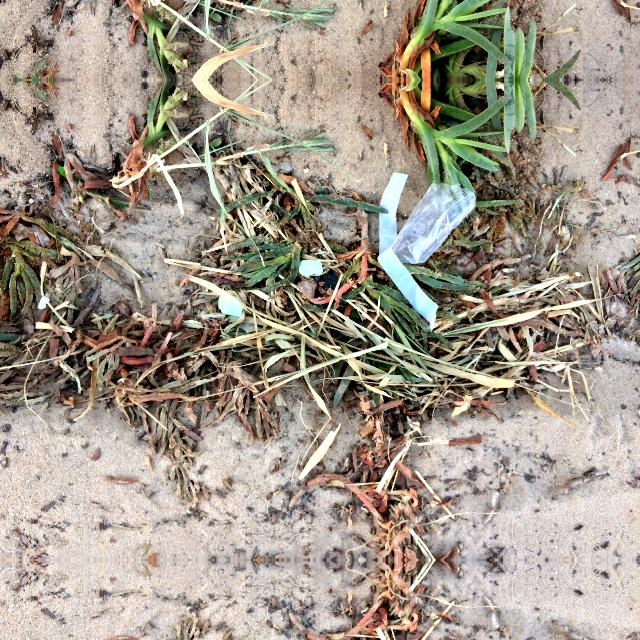Plastic: (362, 148, 492, 342)
